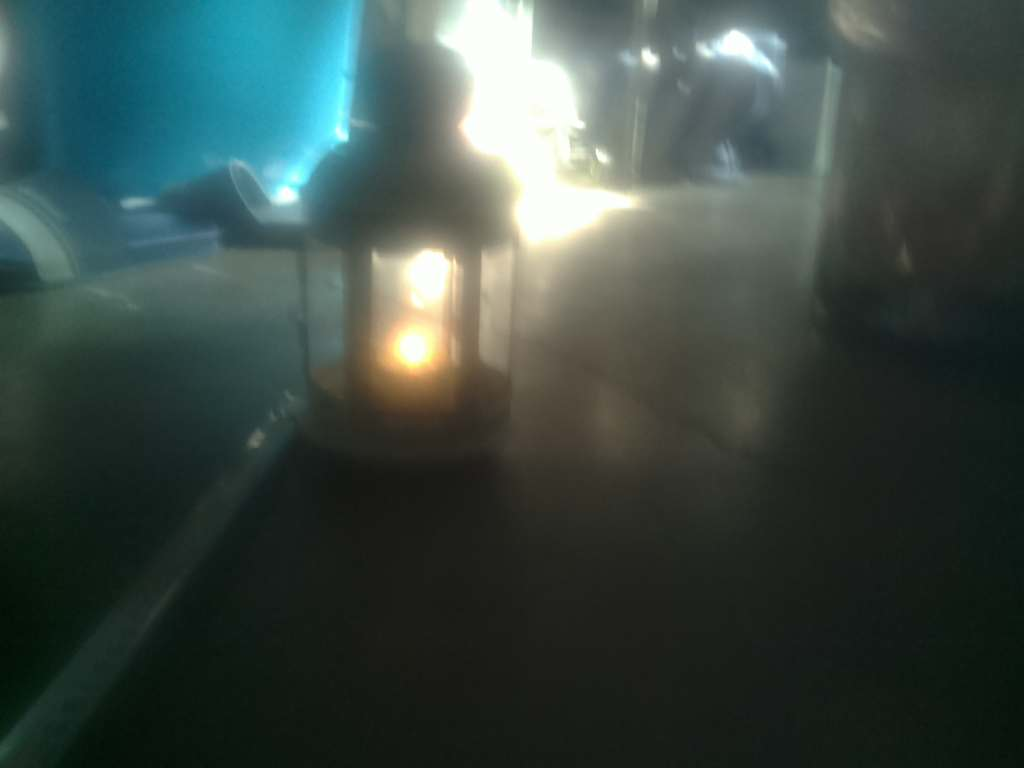fire: (381, 303, 463, 391)
